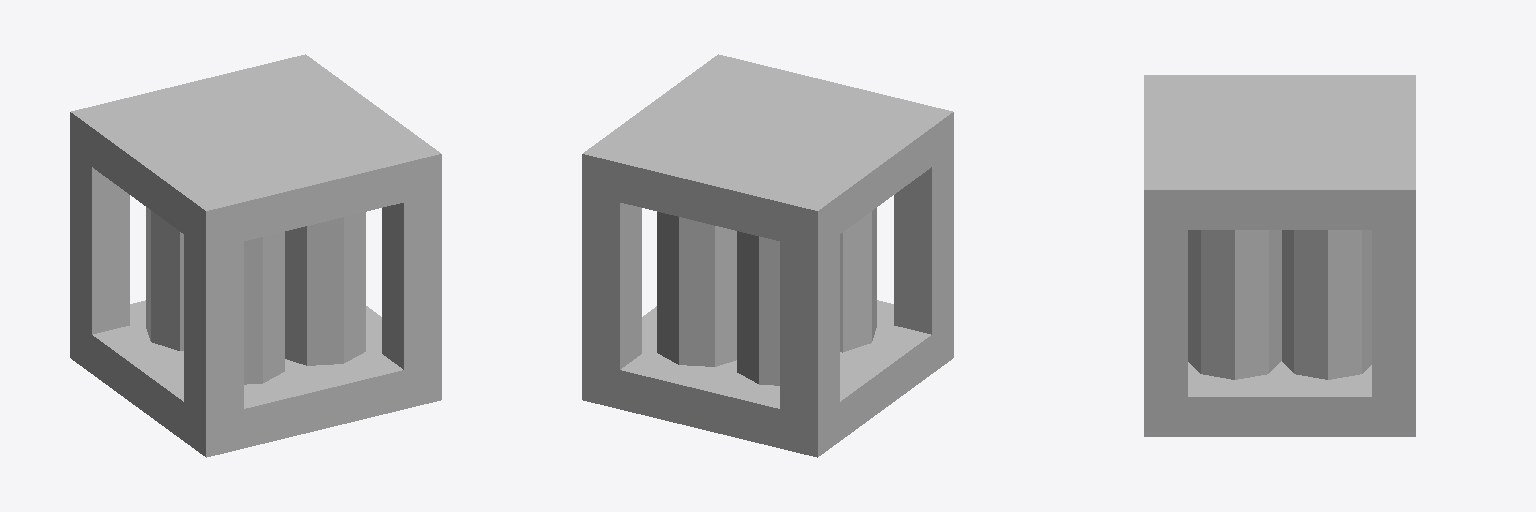
Rendered from tank.obj.
The picture shows the model from 3 angles: view 1: azimuth 30°, elevation 25°; view 2: azimuth 150°, elevation 25°; view 3: azimuth 270°, elevation 25°; orthographic projection.
Parts seen in each view (by area): view 1: Cube.001_Cube.000; view 2: Cube.001_Cube.000; view 3: Cube.001_Cube.000.
Boxes of the visible parts, box(x1,y1,x2,y2) form: Cube.001_Cube.000: box(70, 54, 441, 457); Cube.001_Cube.000: box(582, 54, 953, 457); Cube.001_Cube.000: box(1144, 75, 1415, 436).
Size of the model in its own units: 1 by 1 by 1.